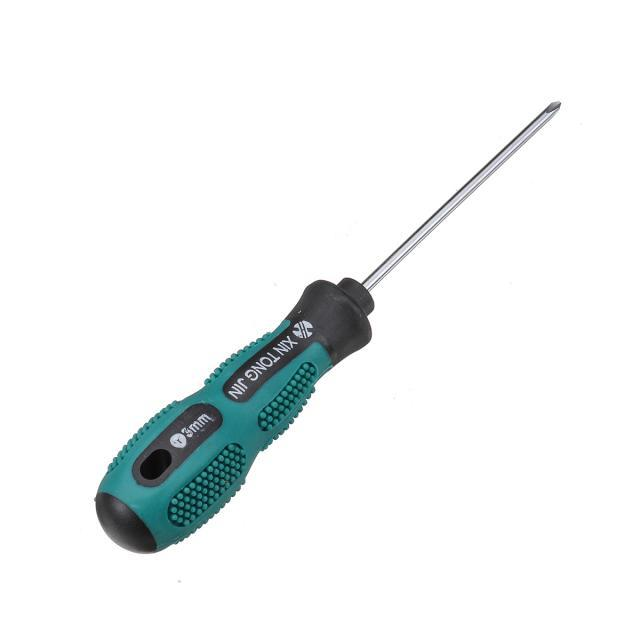screwdriver: (91, 93, 573, 560)
